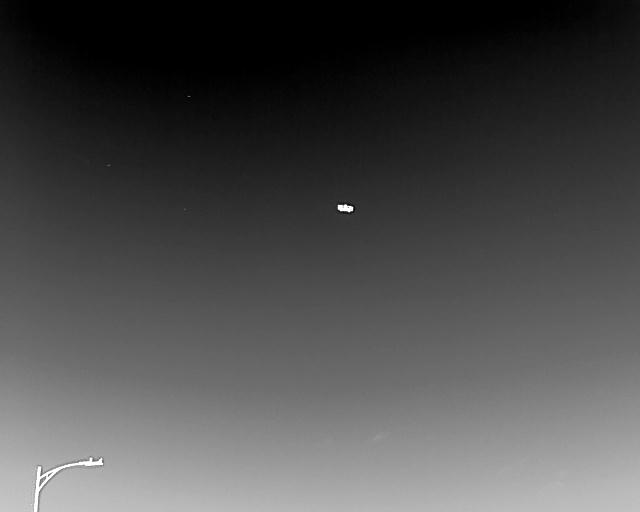fpv-drone: (336, 203, 354, 213)
